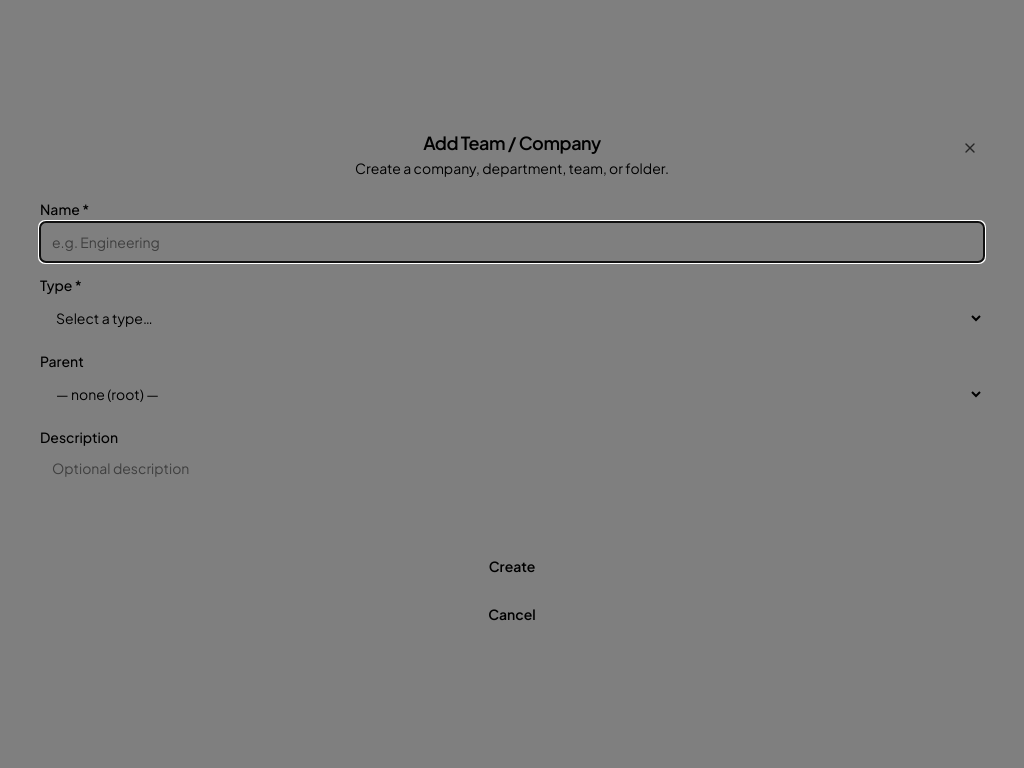
Test: AddTeamModal › responsive in-flight state locks only submit and leaves inputs and cancel available
Type "Acme" into the field labelled "Name *" at (512, 242), box [40,222,984,262]
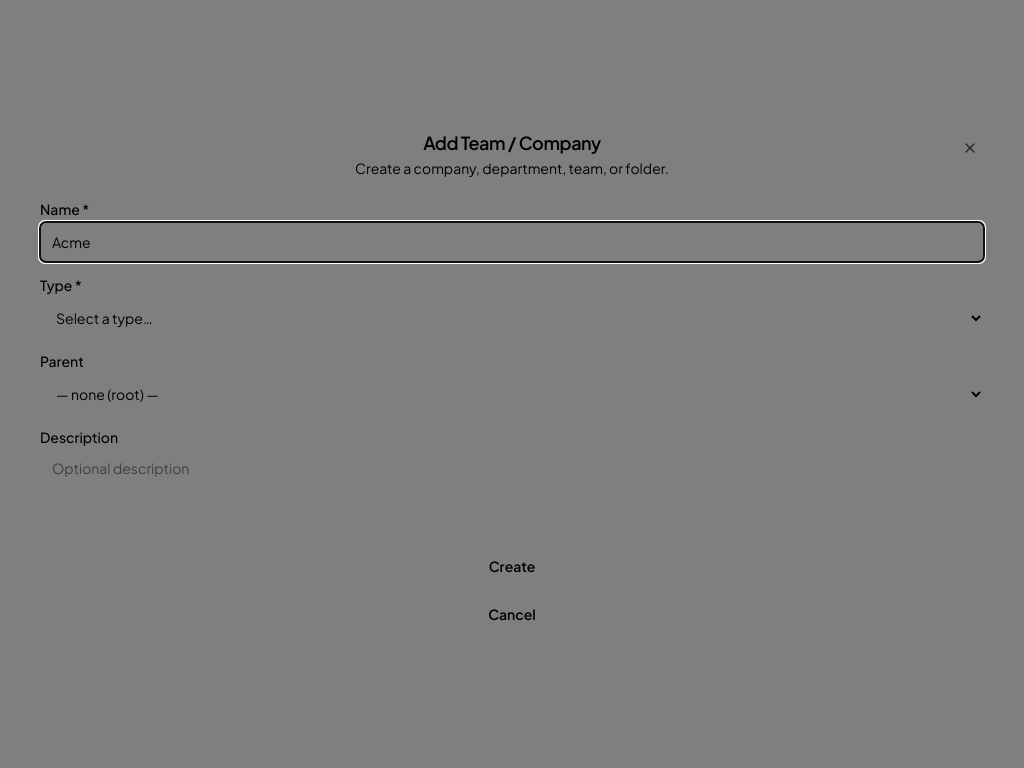
Select "Company" in the dropdown with test id "select-type" at (512, 318), box [40,298,984,338]
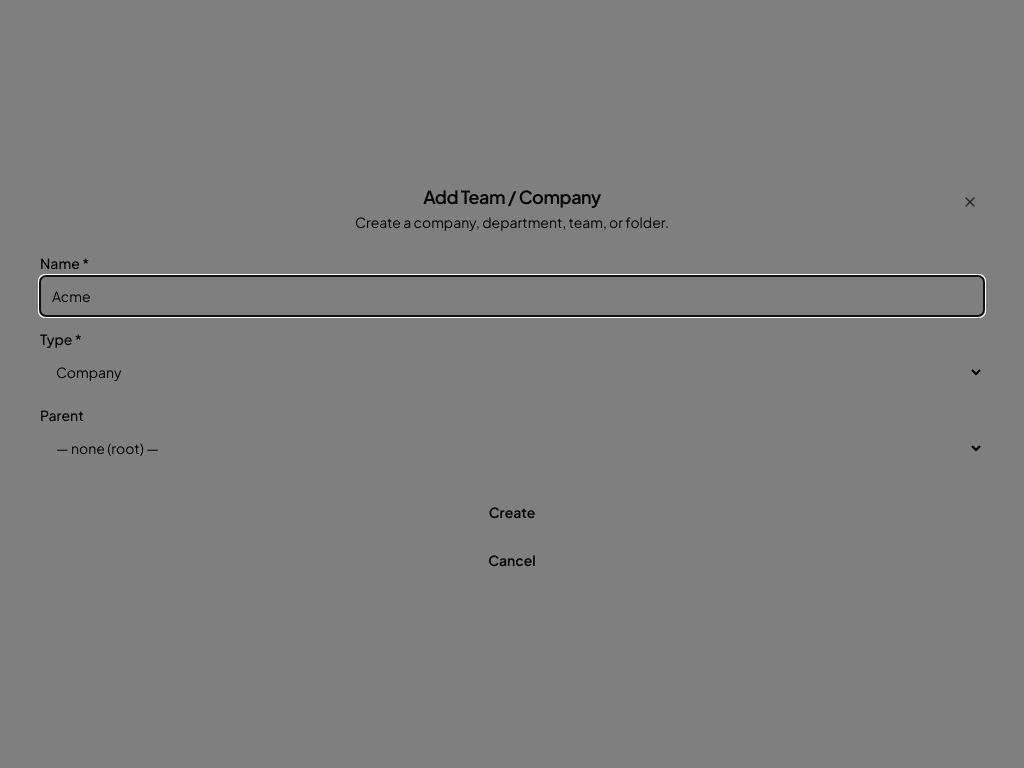
Click the button "Create" at (512, 512), box [40,492,984,532]
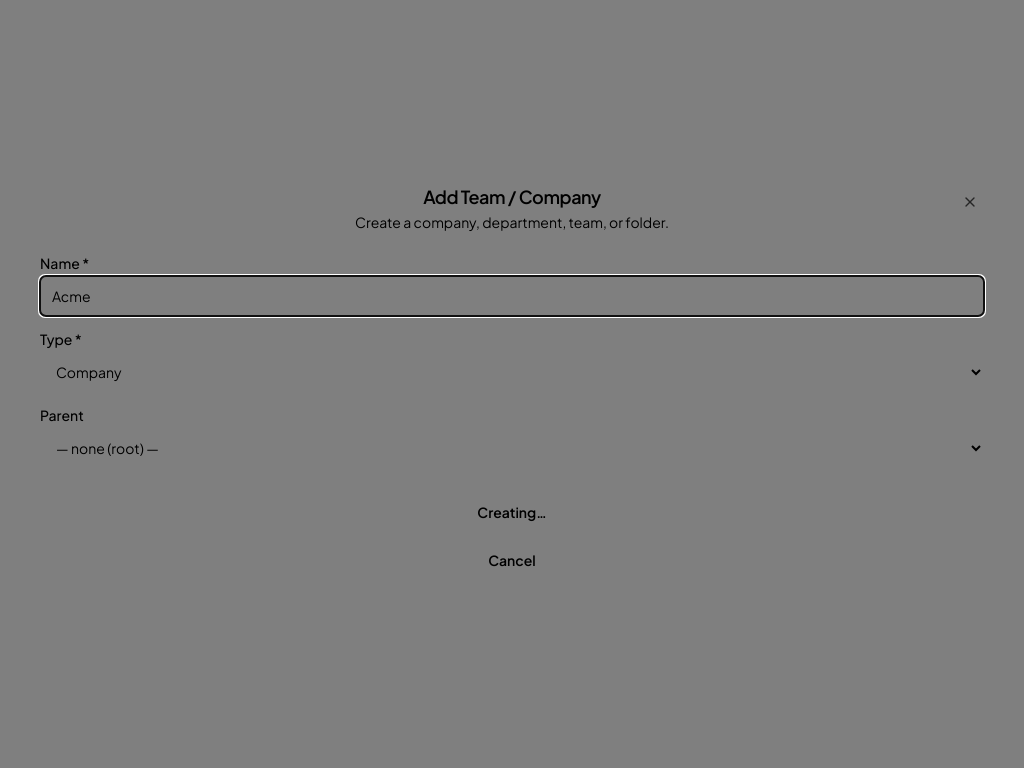
Expected: the field labelled "Name *" is enabled, [40,276,984,316]
Expected: the button "Creating…" is disabled, [40,492,984,532]
